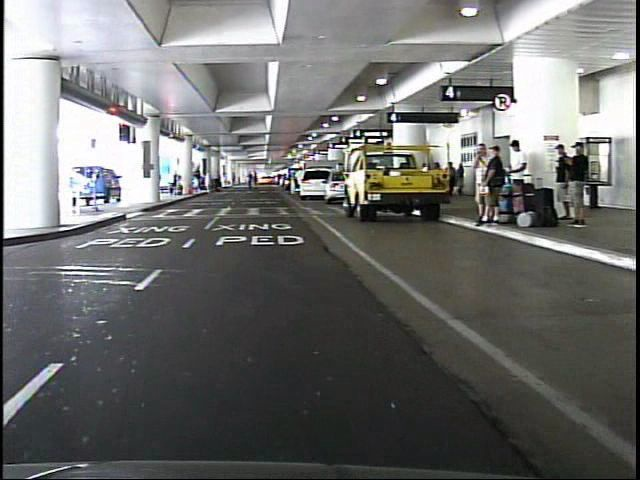person: (559, 143, 584, 233), (463, 142, 484, 221), (195, 165, 211, 199), (288, 165, 303, 199)
